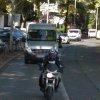Motorcycle: (31, 48, 68, 100)
